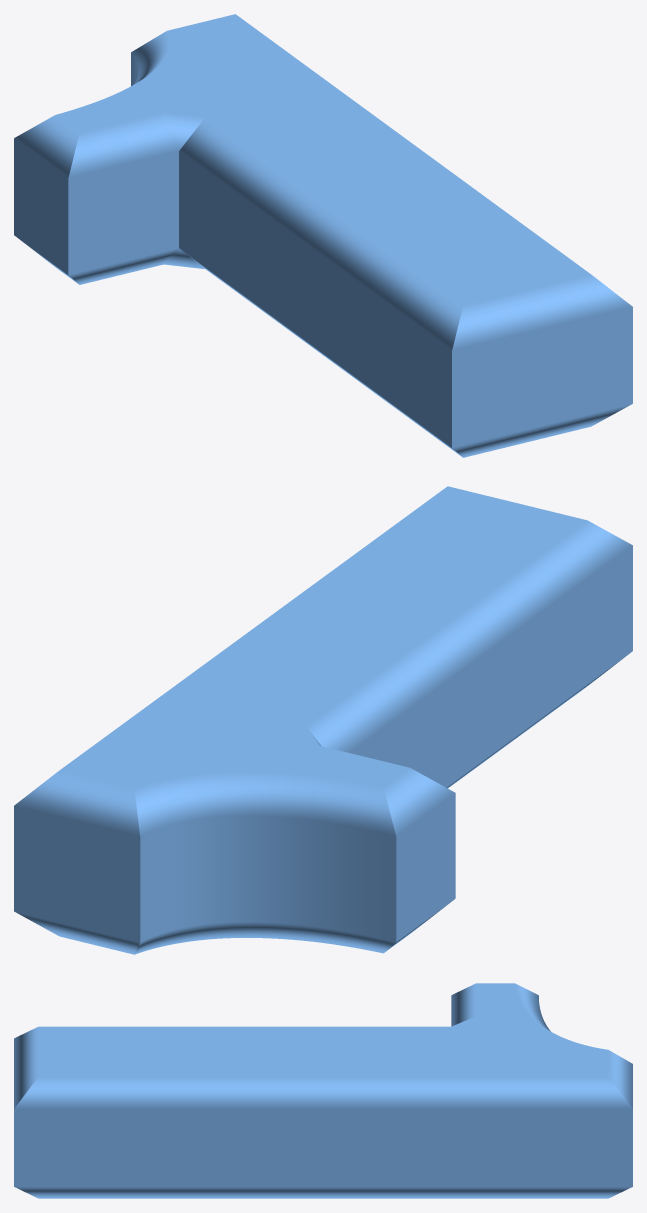
The picture shows the model from 3 angles, top to bottom: view 1: azimuth 30°, elevation 25°; view 2: azimuth 150°, elevation 25°; view 3: azimuth 270°, elevation 25°; orthographic projection. The views are drawn at different scales.
Parts seen in each view (by area): view 1: Text; view 2: Text; view 3: Text.
Part boxes in pixels (x1,y1,x2,y2): Text: (14,14,632,457); Text: (14,486,632,954); Text: (14,983,632,1198).
Bounding box in the file's own units: 0.2205 × 0.11 × 0.5061.
